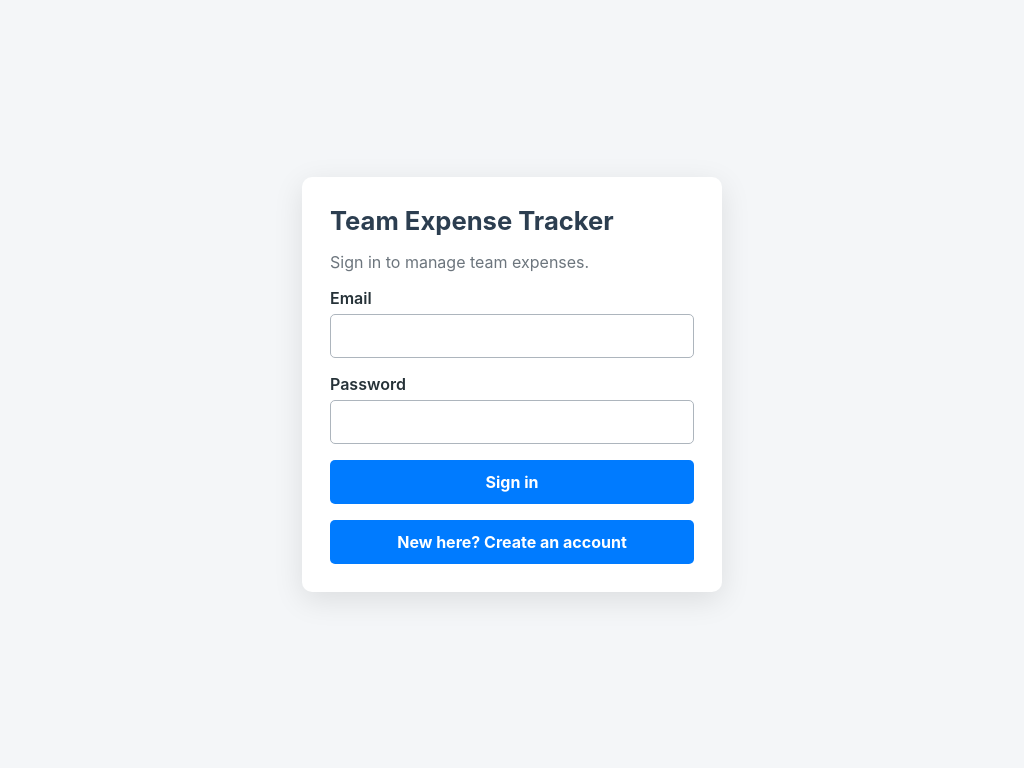
Test: authentication screens › registers a member and signs them in
Click the button "New here? Create an account".
click(512, 542)  # box [330,520,694,564]
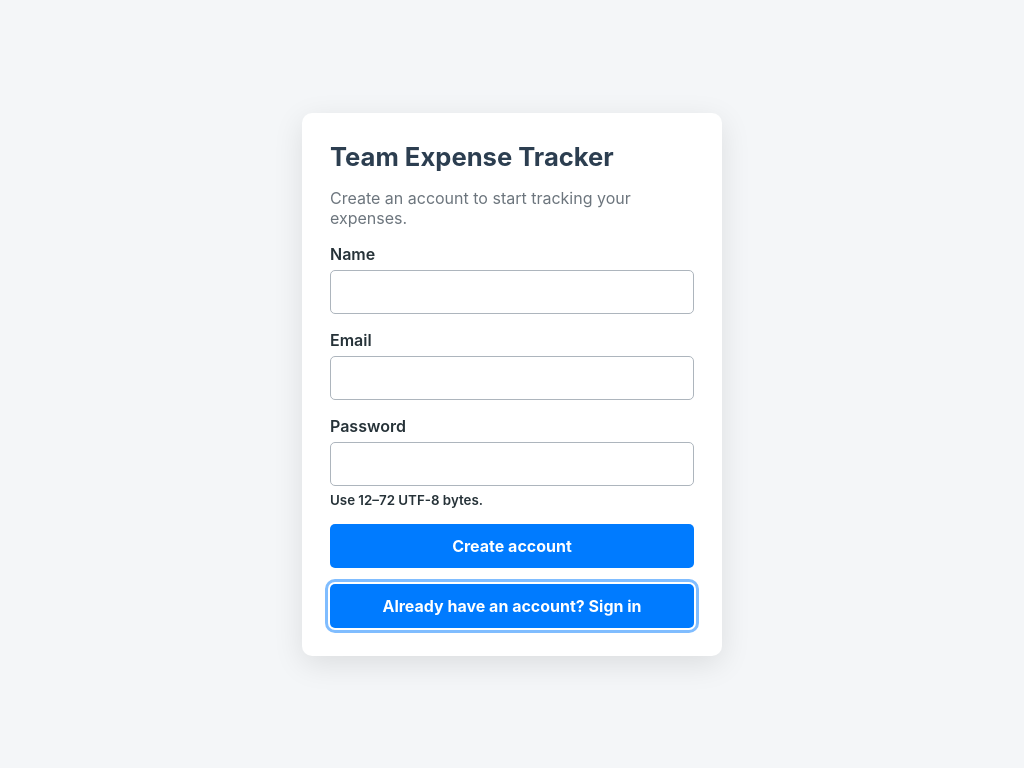
Type "New Member" into the field labelled "Name".
click(512, 292); type("New Member")  # box [330,270,694,314]
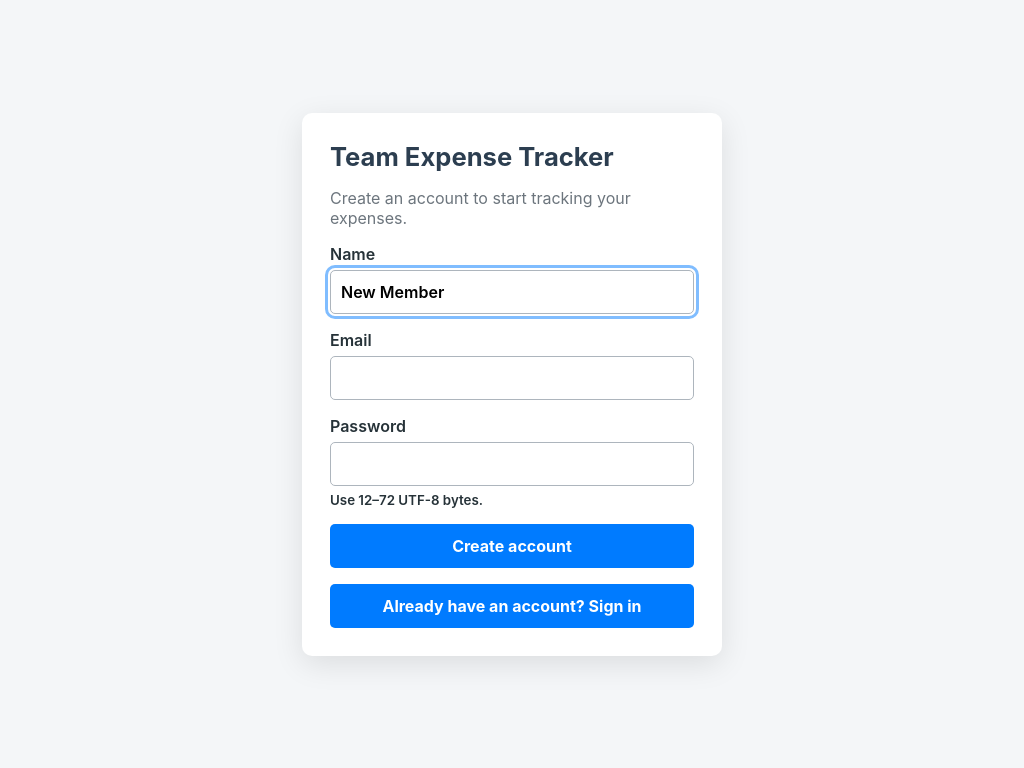
Type "new@example.test" into the field labelled "Email".
click(512, 378); type("new@example.test")  # box [330,356,694,400]
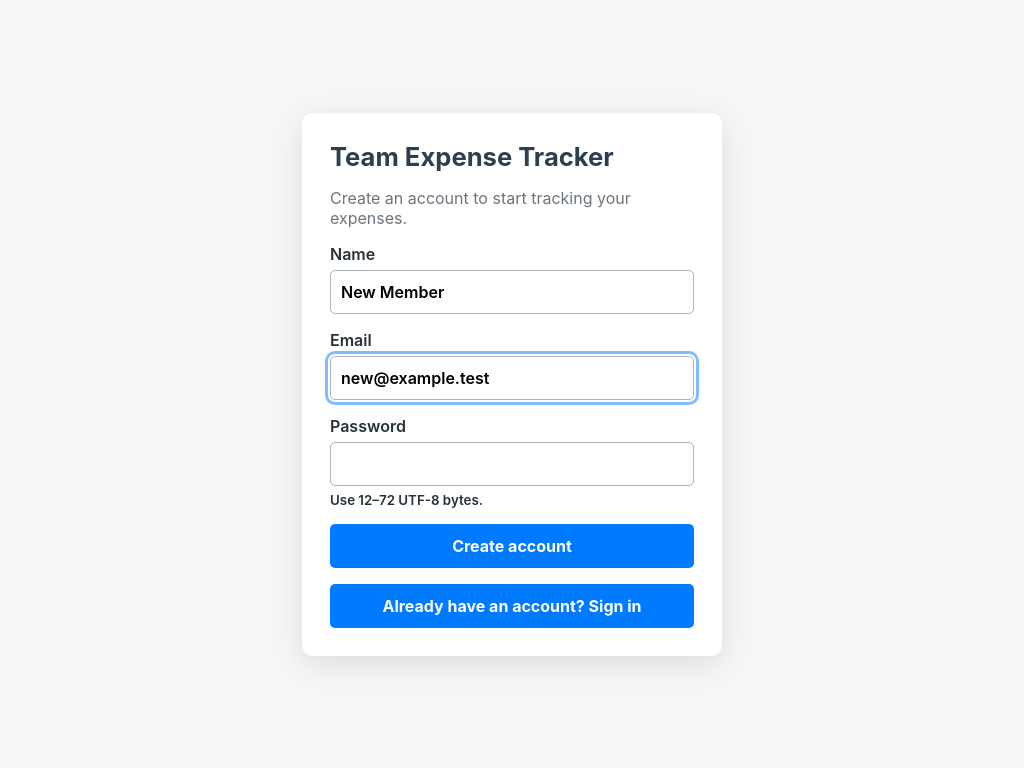
Type "a-long-test-password-123" into the password field labelled "Password Use 12–72 UTF-8 bytes.".
click(512, 464); type("a-long-test-password-123")  # box [330,442,694,486]
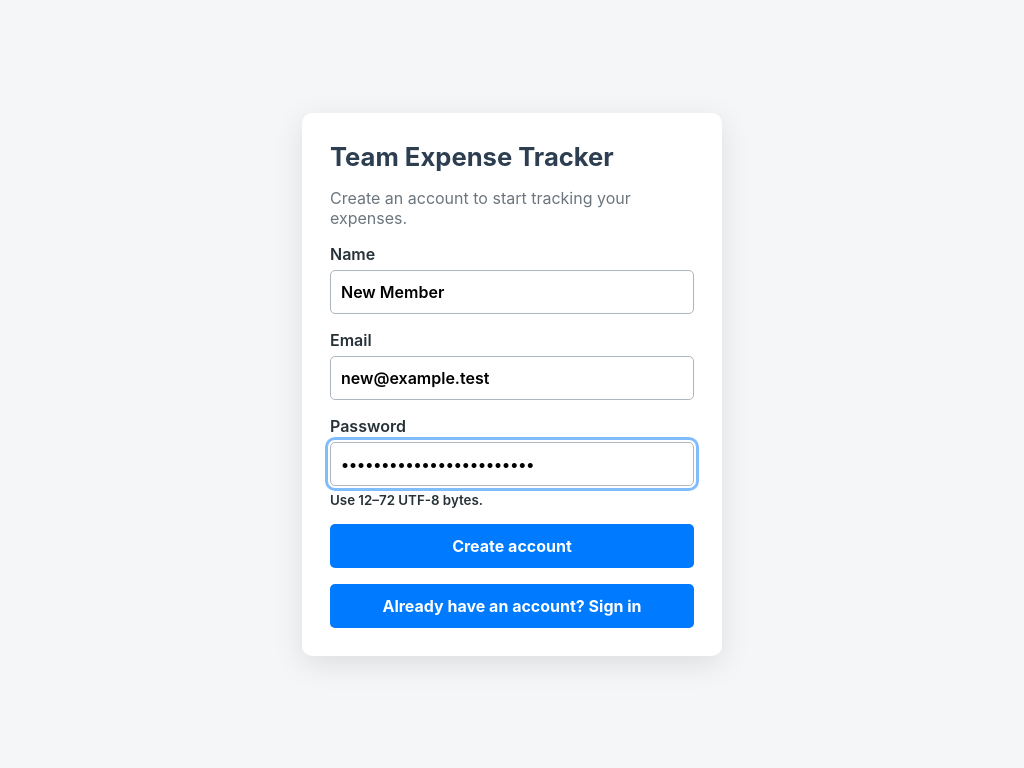
Click the button "Create account".
click(512, 546)  # box [330,524,694,568]
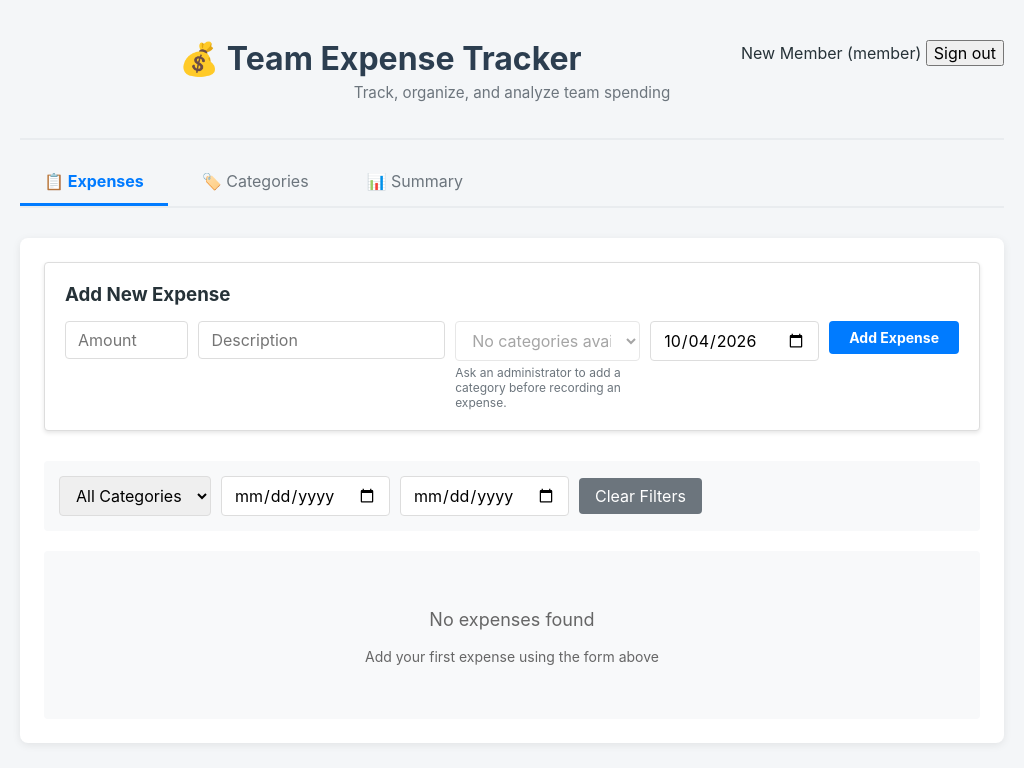
Expected: the text "New Member (member)" is shown, [741,40,1004,66]
